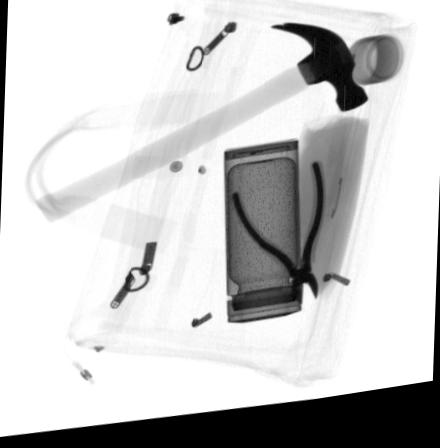Hammer: (36, 30, 370, 224)
Pliers: (232, 169, 326, 313)
